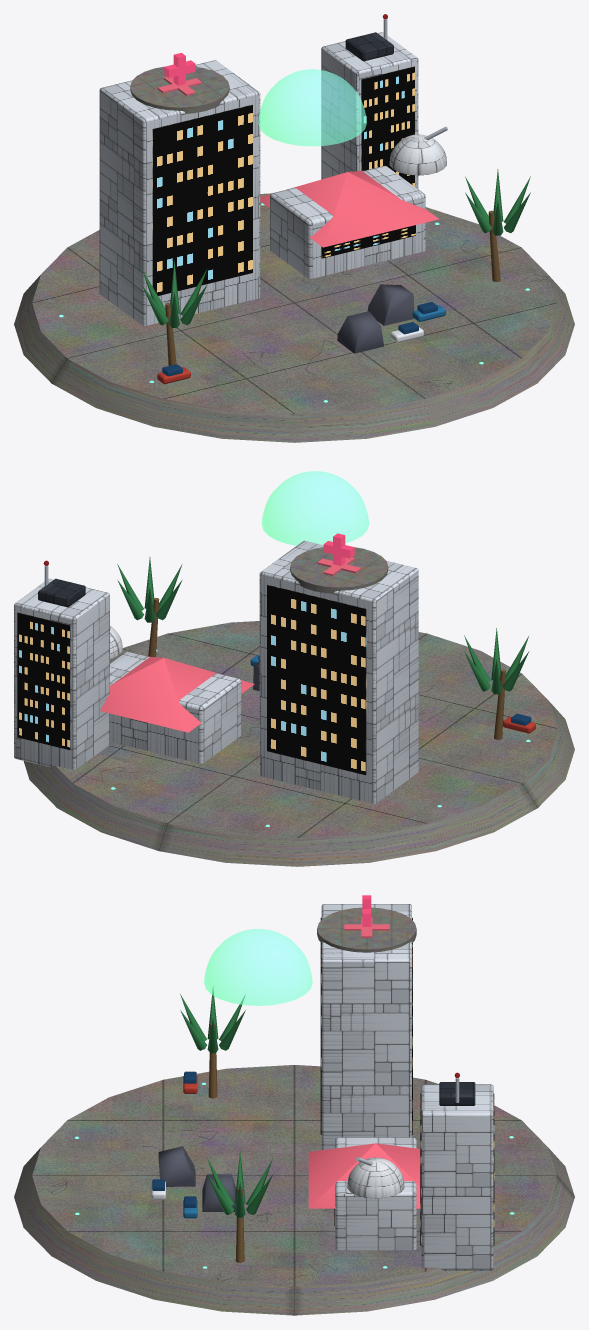
Rendered from welfare-T5.glb.
3 renders of one model, top to bottom at view 1: azimuth 30°, elevation 25°; view 2: azimuth 150°, elevation 25°; view 3: azimuth 270°, elevation 25°, orthographic.
Parts seen in each view (by area): view 1: object 1, object 11, object 12, object 19, object 51, object 57, object 20, object 52, object 16, grass, object 22, object 21 (+1 smaller); view 2: object 1, object 11, object 13, object 51, object 19, object 53, object 57, object 20, object 16, object 54; view 3: object 1, object 11, object 51, object 57, object 19, object 20, object 16, grass, object 22, object 54.
Part boxes in pixels (box(x1,y1,x2,y2)): object 1: box(14, 193, 574, 442); object 11: box(99, 60, 260, 325); object 12: box(152, 104, 252, 295); object 19: box(270, 165, 425, 278); object 51: box(321, 32, 418, 188); object 57: box(258, 69, 366, 146); object 20: box(260, 170, 438, 247); object 52: box(361, 66, 414, 186); object 16: box(130, 66, 229, 113); grass: box(337, 284, 414, 353); object 22: box(389, 134, 446, 175); object 21: box(321, 225, 415, 258); object 1: box(23, 621, 574, 866); object 11: box(259, 540, 418, 803); object 13: box(267, 584, 366, 775); object 51: box(14, 578, 109, 769); object 19: box(110, 651, 241, 763); object 53: box(17, 612, 70, 749); object 57: box(261, 471, 368, 545); object 20: box(100, 656, 254, 732); object 16: box(290, 547, 388, 593); object 54: box(38, 578, 85, 607); object 1: box(14, 1065, 574, 1315); object 11: box(321, 904, 411, 1149); object 51: box(421, 1084, 493, 1270); object 57: box(204, 929, 312, 1005); object 19: box(335, 1137, 416, 1250); object 20: box(308, 1143, 420, 1208); object 16: box(317, 907, 416, 952); grass: box(158, 1146, 236, 1211); object 22: box(347, 1157, 404, 1198); object 54: box(439, 1082, 475, 1105).
Size of the model in its own units: 6.2 by 3.53 by 6.2.
Materials: 32 (7 with a texture image).
